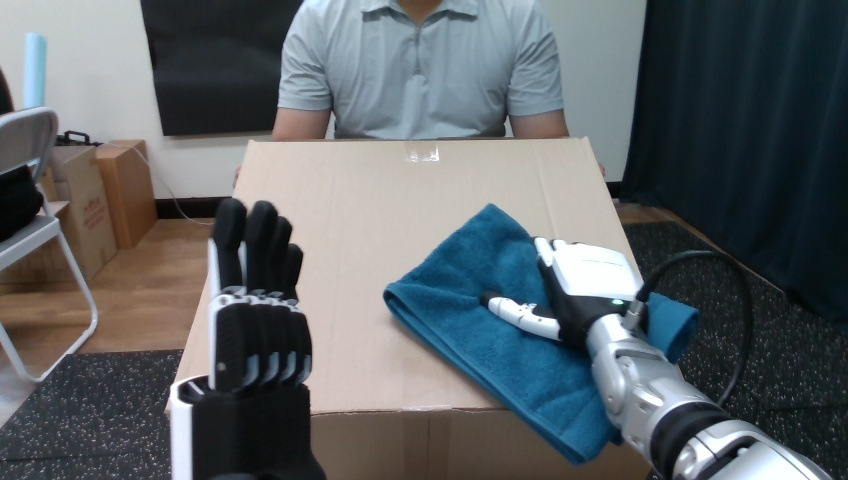left robot hand: (170, 198, 324, 478), (725, 269, 847, 478), (655, 259, 743, 398)
